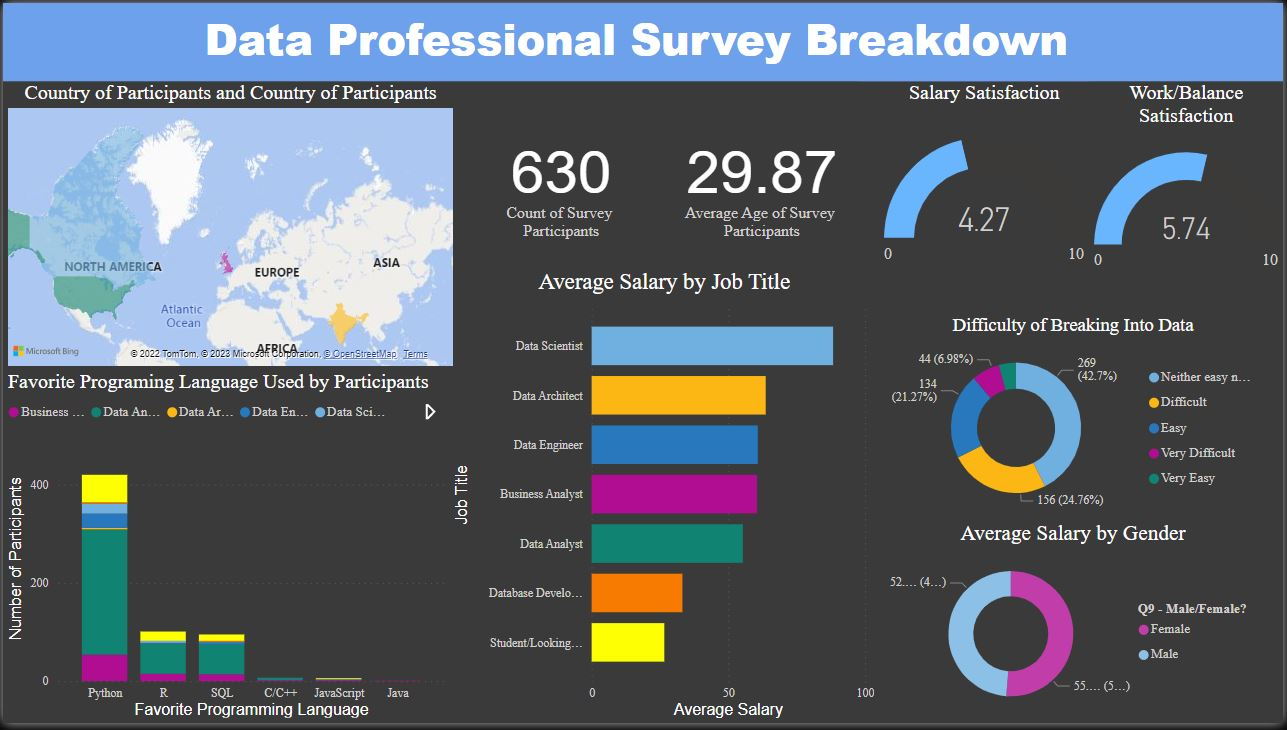

Layout of this report page (visuals, bound fields, positions):
{"tool":"powerbi","page":{"name":"Page 1","canvas":[1280,720],"ordinal":0},"visuals":[{"type":"textbox","box":[0,0,1280.3,78.2],"z":0},{"type":"card","fields":{"Values":["Count(Data Professional Survey.Unique ID)"]},"box":[455,78.8,206.2,187.5],"z":1000},{"type":"card","fields":{"Values":["Avg(Data Professional Survey.Q10 - Current Age)"]},"box":[661.2,78.8,195,187.5],"z":2000},{"type":"barChart","title":"Average Salary by Job Title","fields":{"Category":["Data Professional Survey.Q1 - Which Title Best Fits your Current Role?.1"],"Y":["Avg(Data Professional Survey.Average Salary)"],"Series":["Data Professional Survey.Q1 - Which Title Best Fits your Current Role?.1"]},"box":[446.2,266.2,430,453.8],"z":3000},{"type":"columnChart","title":"Favorite Programing Language Used by Participants","fields":{"Category":["Data Professional Survey.Q5 - Favorite Programming Language.1"],"Y":["CountNonNull(Data Professional Survey.Unique ID)"],"Series":["Data Professional Survey.Q1 - Which Title Best Fits your Current Role?.1"]},"box":[0,367.5,446.2,352.5],"z":4000},{"type":"filledMap","fields":{"Category":["Data Professional Survey.Q11 - Which Country do you live in?.1"],"Series":["Data Professional Survey.Q11 - Which Country do you live in?.1"]},"box":[0,78.8,455,288.8],"z":5000},{"type":"gauge","title":"Salary Satisfaction","fields":{"Y":["Avg(Data Professional Survey.Q6 - How Happy are you in your Current Position with the following? (Salary))"],"MinValue":["Min(Data Professional Survey.Q6 - How Happy are you in your Current Position with the following? (Salary))"],"MaxValue":["Max(Data Professional Survey.Q6 - How Happy are you in your Current Position with the following? (Salary))"]},"box":[876.2,78.8,210,217.5],"z":6000},{"type":"gauge","title":"Work/Balance Satisfaction","fields":{"Y":["Avg(Data Professional Survey.Q6 - How Happy are you in your Current Position with the following? (Work/Life Balance))"],"MinValue":["Min(Data Professional Survey.Q6 - How Happy are you in your Current Position with the following? (Work/Life Balance))"],"MaxValue":["Max(Data Professional Survey.Q6 - How Happy are you in your Current Position with the following? (Work/Life Balance))"]},"box":[1086.2,78.8,193.8,217.5],"z":7000},{"type":"donutChart","title":"Average Salary by Gender","fields":{"Category":["Data Professional Survey.Q9 - Male/Female?"],"Y":["Avg(Data Professional Survey.Average Salary)"]},"box":[876.2,517.5,387.5,202.5],"z":8000},{"type":"donutChart","title":"Difficulty of Breaking Into Data","fields":{"Category":["Data Professional Survey.Q7 - How difficult was it for you to break into Data?"],"Y":["CountNonNull(Data Professional Survey.Q7 - How difficult was it for you to break into Data?)"]},"box":[876.2,311.2,387.5,206.2],"z":9000}]}

Visuals, with their boxes in screenshot pixels (x1, y1, x2, y2), scaled from the page's 1280x720 canvas onto the 1287x730 screenshot:
textbox: crop(0, 0, 1286, 79)
card - Count(Data Professional Survey.Unique ID): crop(457, 80, 665, 270)
card - Avg(Data Professional Survey.Q10 - Current Age): crop(665, 80, 861, 270)
"Average Salary by Job Title" barChart: crop(449, 270, 881, 729)
"Favorite Programing Language Used by Participants" columnChart: crop(0, 373, 449, 729)
filledMap - Data Professional Survey.Q11 - Which Country do you live in?.1 x Data Professional Survey.Q11 - Which Country do you live in?.1: crop(0, 80, 457, 373)
"Salary Satisfaction" gauge: crop(881, 80, 1092, 300)
"Work/Balance Satisfaction" gauge: crop(1092, 80, 1286, 300)
"Average Salary by Gender" donutChart: crop(881, 525, 1271, 729)
"Difficulty of Breaking Into Data" donutChart: crop(881, 316, 1271, 525)
